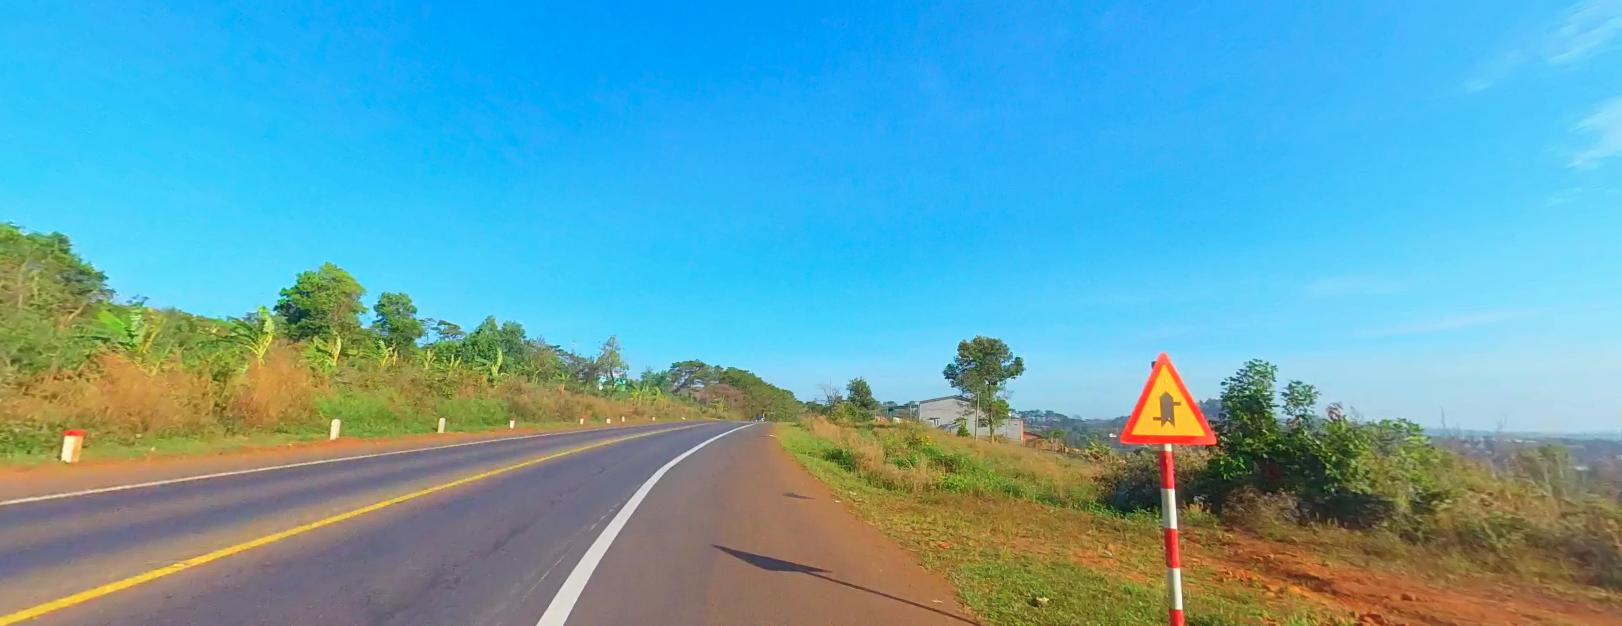Nguy hiem: (1114, 347, 1218, 445)
